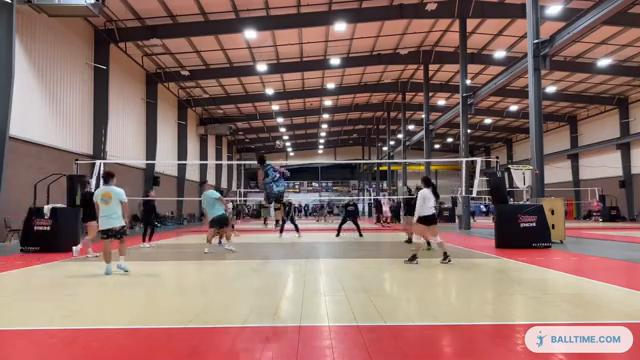Attack: (251, 151, 291, 229)
Player: (93, 171, 128, 274), (413, 176, 450, 263), (201, 184, 235, 253), (72, 181, 98, 256), (336, 199, 362, 236), (279, 200, 300, 236)
ball: (276, 138, 284, 149)
